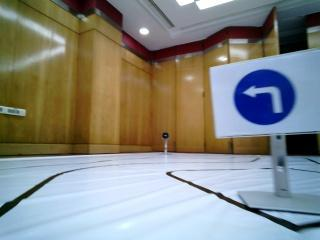left: (213, 65, 320, 128)
